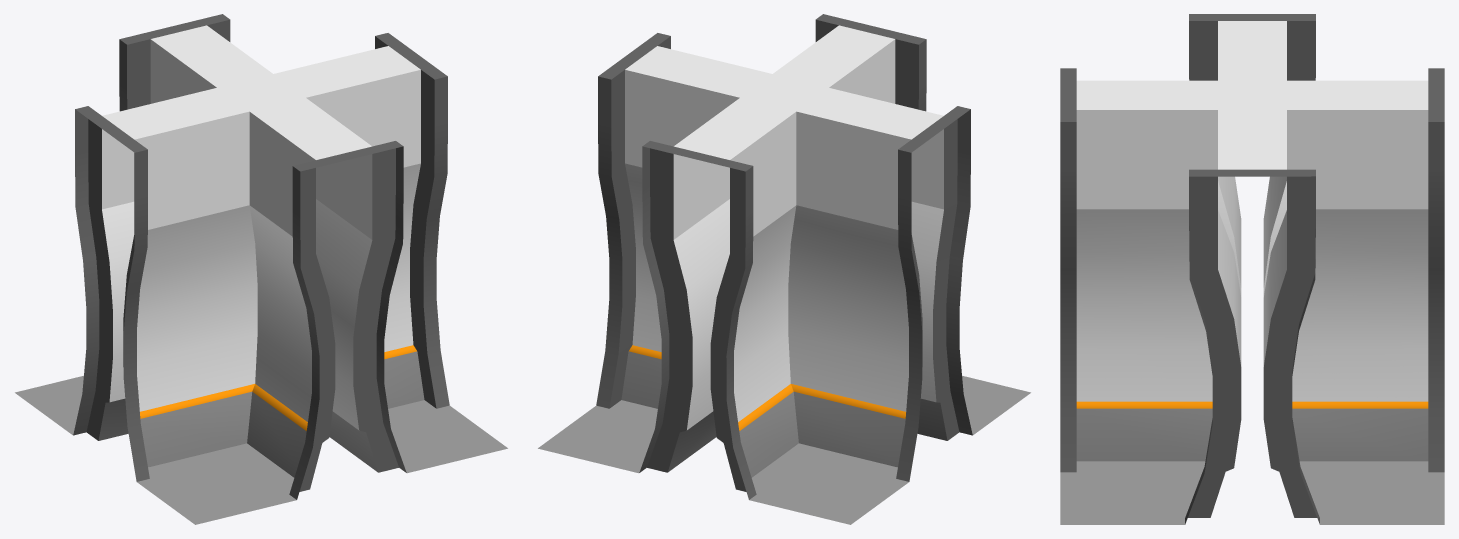
The model's file is SM_InteriorWall_X_01.fbx.
3 views of the same model, side by side, from view 1: azimuth 30°, elevation 25°; view 2: azimuth 150°, elevation 25°; view 3: azimuth 270°, elevation 25° (orthographic). The views are drawn at different scales.
Parts seen in each view (by area): view 1: SM_InteriorWall_X_01; view 2: SM_InteriorWall_X_01; view 3: SM_InteriorWall_X_01.
Part boxes in pixels (bbox=[...]): SM_InteriorWall_X_01: bbox=[15, 14, 507, 524]; SM_InteriorWall_X_01: bbox=[538, 14, 1030, 524]; SM_InteriorWall_X_01: bbox=[1060, 14, 1444, 524].
Bounding box in the file's own units: 200 × 200 × 200.
Materials: 1 (1 with a texture image).
